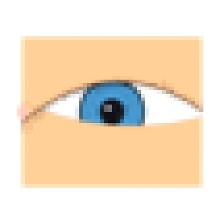hemorrhage_spot: (82, 101, 154, 158)
